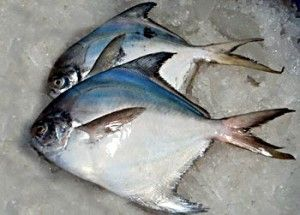Ikan Bawal: (25, 57, 293, 209)
